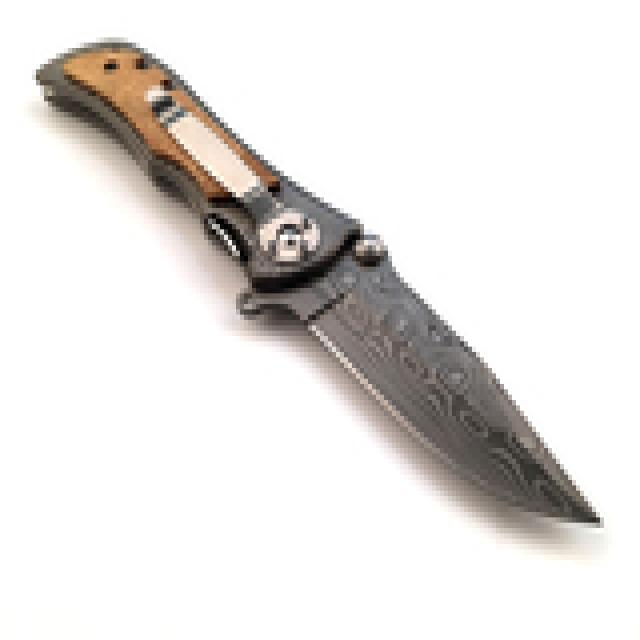Knife: (33, 22, 605, 534)
